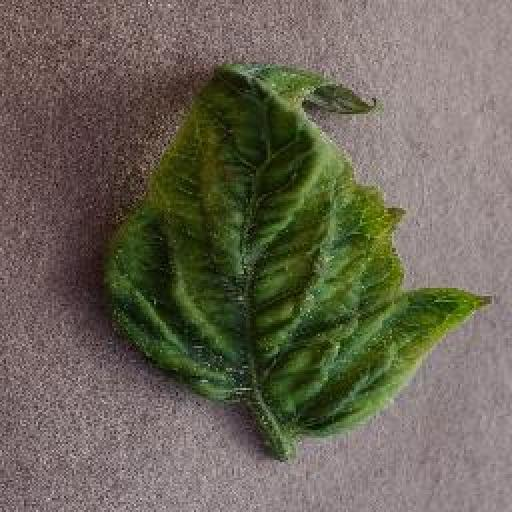disease_tomato: (109, 62, 495, 438)
